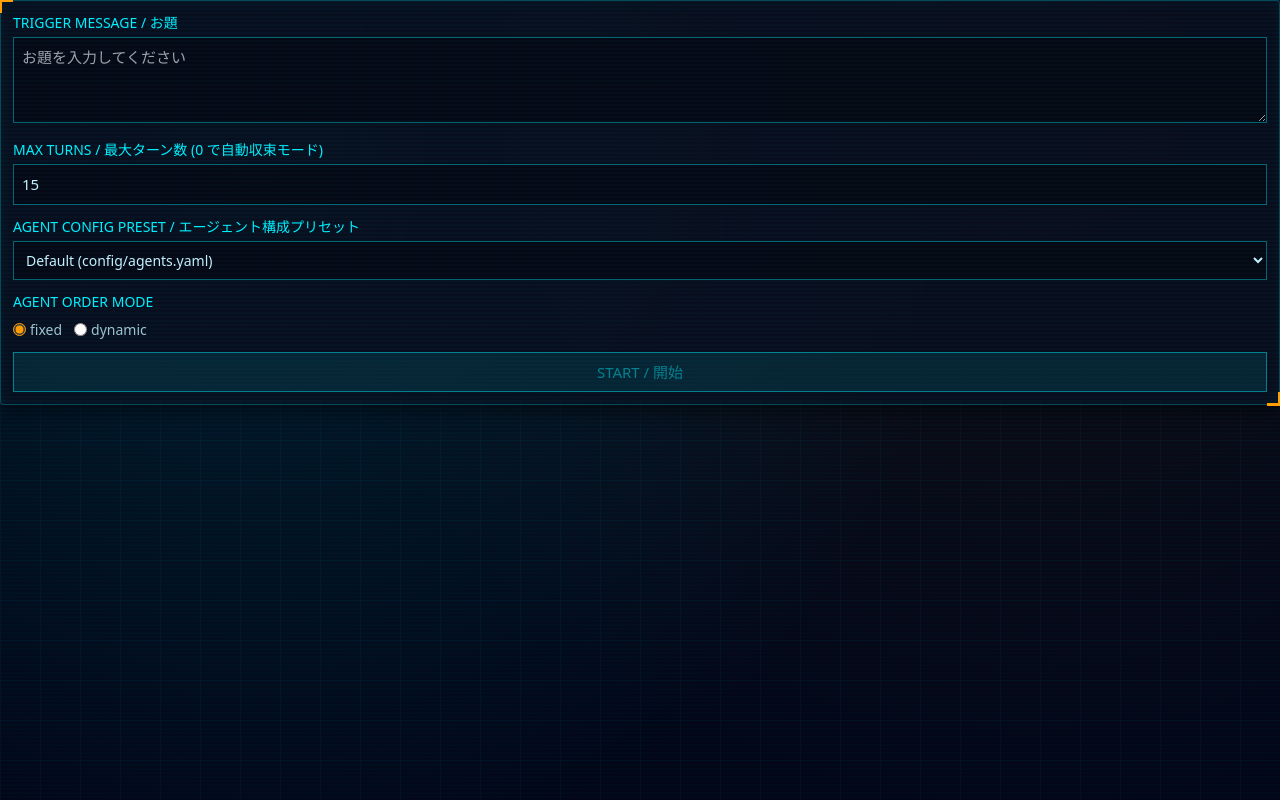
Test: お題を入力すると送信ボタンが有効化される
The width and height of the screenshot is (1280, 800).
Type "テストお題" into the text box with placeholder "お題を入力してください". click: point(640, 80)
box: [13,37,1267,122]
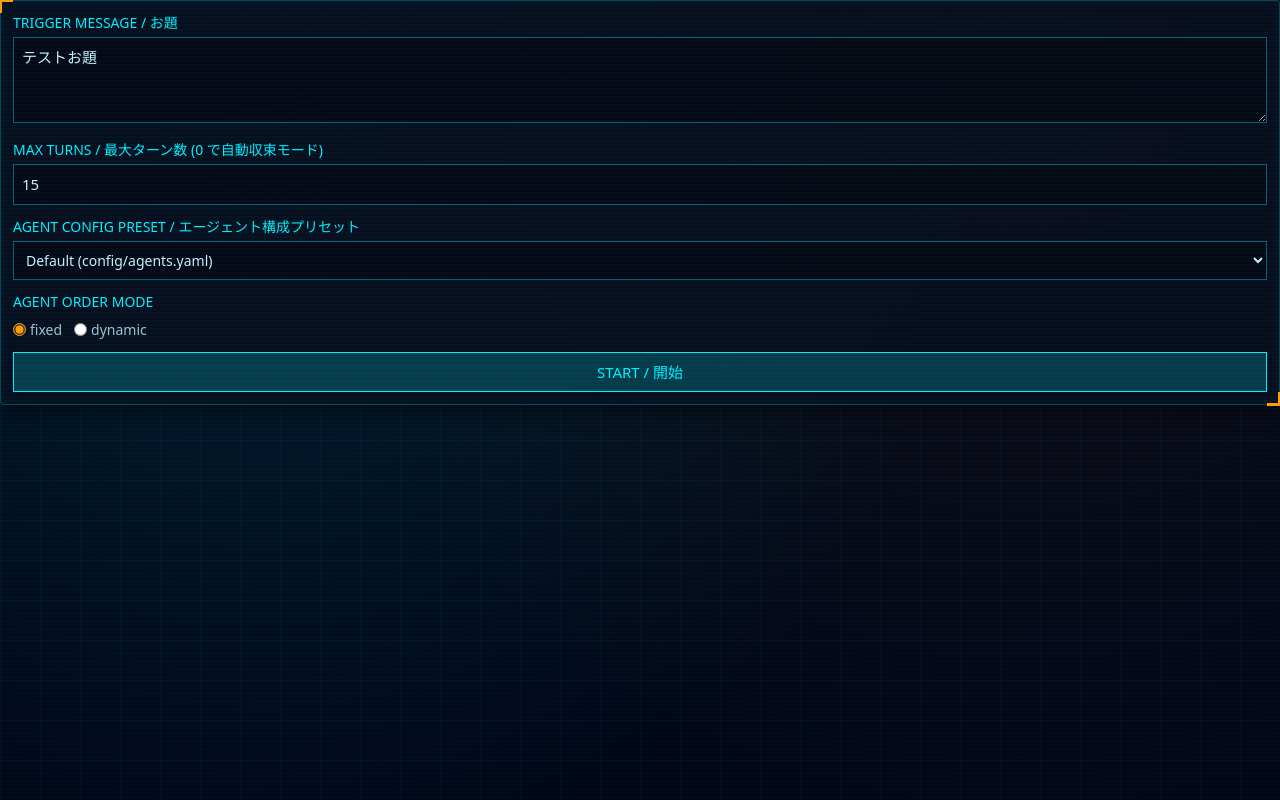
Expected: the button "START / 開始" is enabled, [13,352,1267,392]
